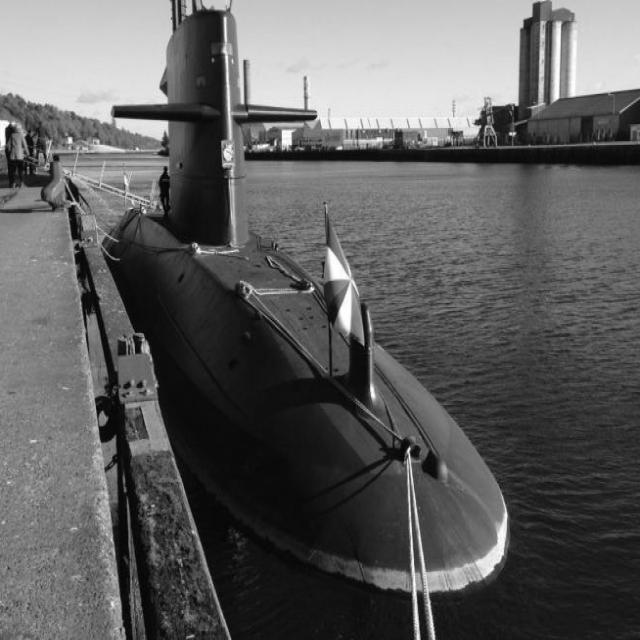submarine: (98, 1, 518, 589)
